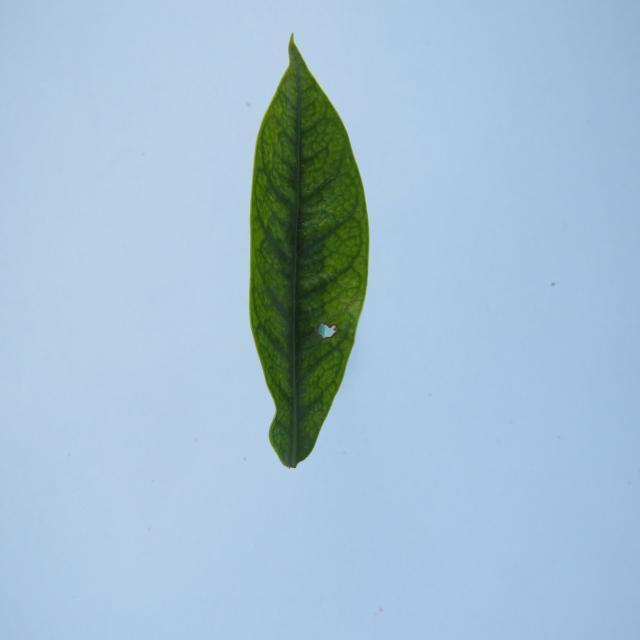DeficienciaNutricional-Manganeso: (250, 35, 369, 468)
